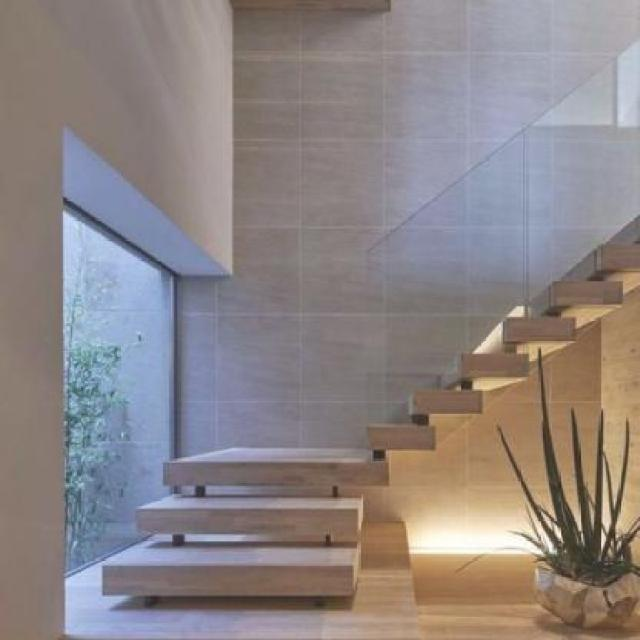stair: (55, 77, 640, 638)
